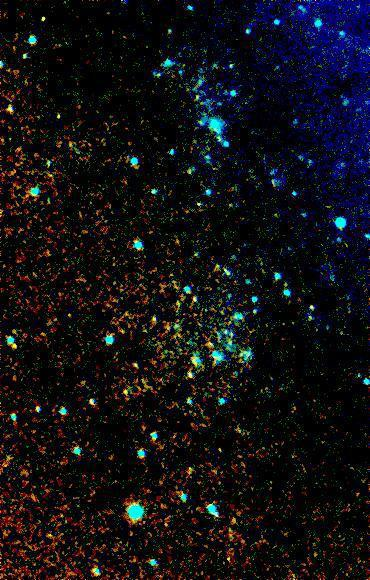star: (32, 4, 62, 34)
